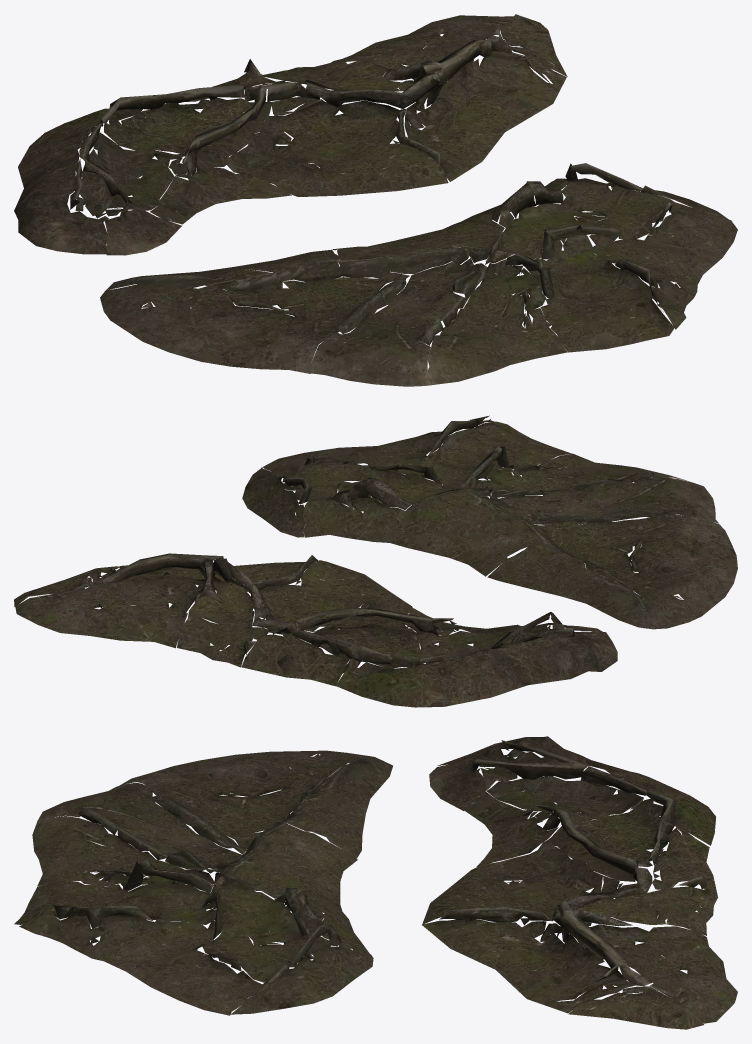
The model's file is pine_roots.glb.
The picture shows the model from 3 angles, top to bottom: view 1: azimuth 30°, elevation 25°; view 2: azimuth 150°, elevation 25°; view 3: azimuth 270°, elevation 25°; orthographic projection. The views are drawn at different scales.
Visible parts, largest first — view 1: pine_roots_b, pine_roots_a; view 2: pine_roots_b, pine_roots_a; view 3: pine_roots_b, pine_roots_a.
Part boxes in pixels (x1,y1,x2,y2): pine_roots_b: (100,163,737,386); pine_roots_a: (14,14,567,255); pine_roots_b: (242,415,737,629); pine_roots_a: (14,553,617,707); pine_roots_b: (14,750,392,1015); pine_roots_a: (422,736,737,1029).
Bounding box in the file's own units: 1.77 × 0.1574 × 1.89.
Materials: 2 (2 with a texture image).
